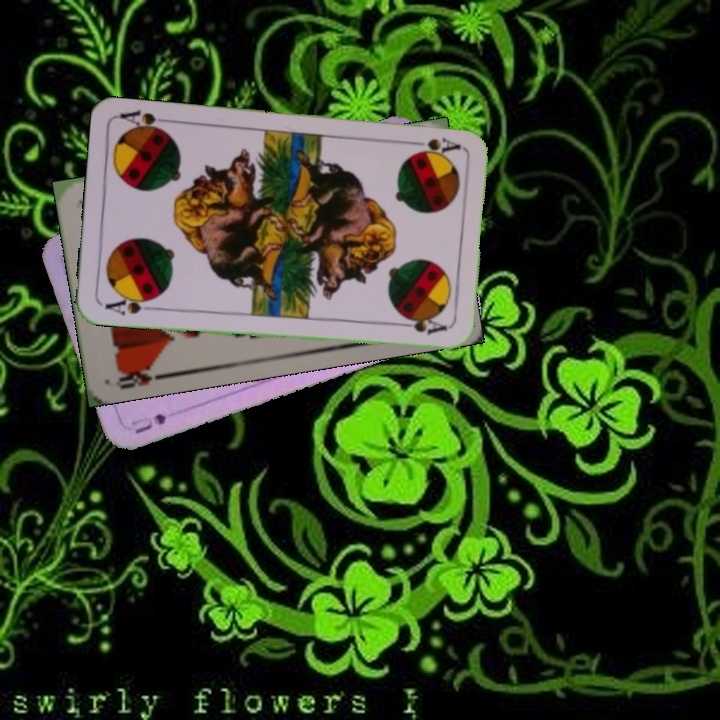HO: (111, 361, 169, 392)
SA: (100, 291, 159, 318), (404, 133, 464, 159)
SU: (127, 409, 169, 437)
